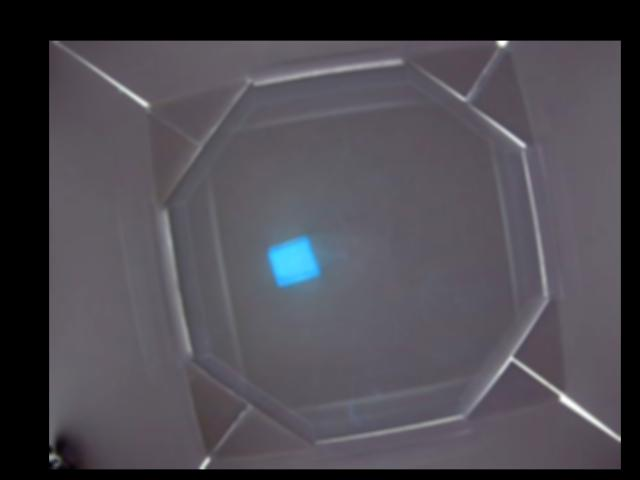Carrot: (268, 237, 319, 287)
